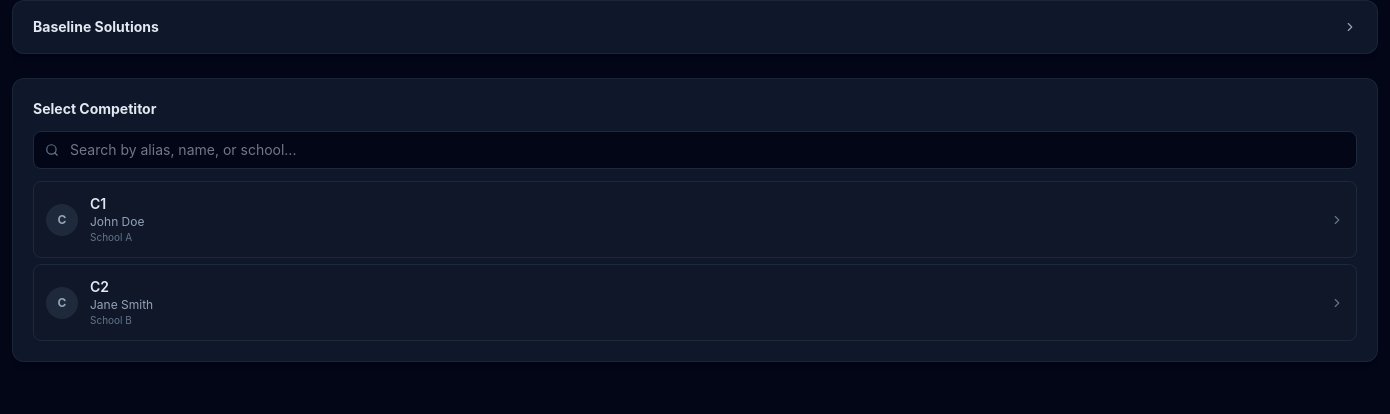
Test case: SubmissionsView Page › Admin/Jury view › handles no submissions for a competitor
The image size is (1390, 414).
Expected: the text "C1" is shown, [90,195,106,212]
Click the button "C C1 John Doe School A" at (62, 220), box [33,181,1357,258]
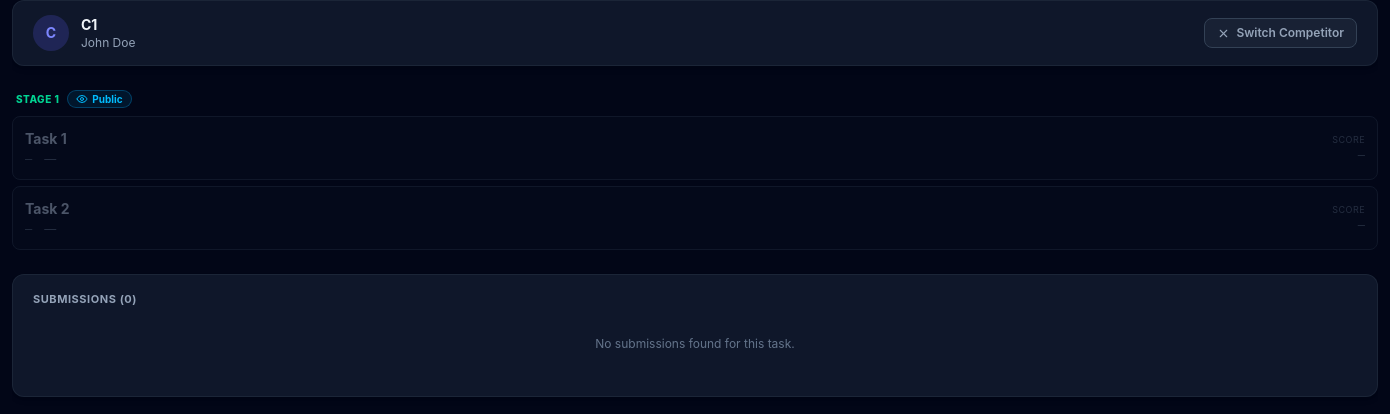
Now the text "Stage 1" is shown, box [16,92,59,106]
Now the text "Task 1" is shown, box [25,129,67,149]
Now the text "Task 2" is shown, box [25,199,70,219]
